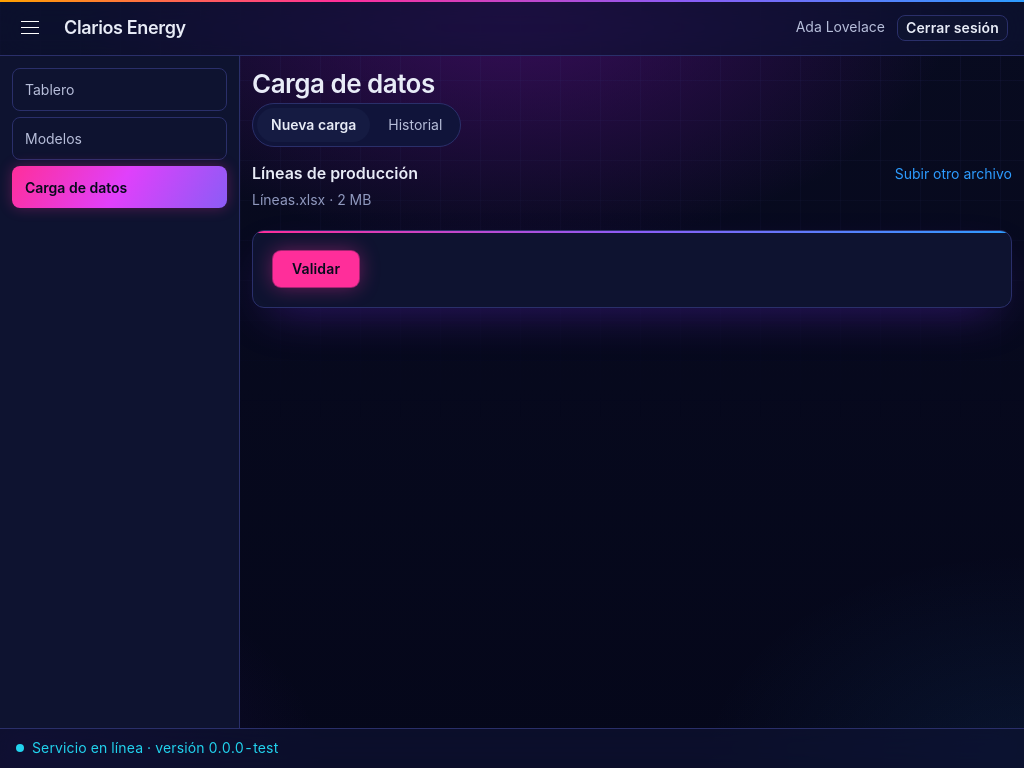
it: a file not validated yet › says so when another validation of it is running
Click the button "Validar" at {"x": 316, "y": 269}, box [273, 251, 359, 287]
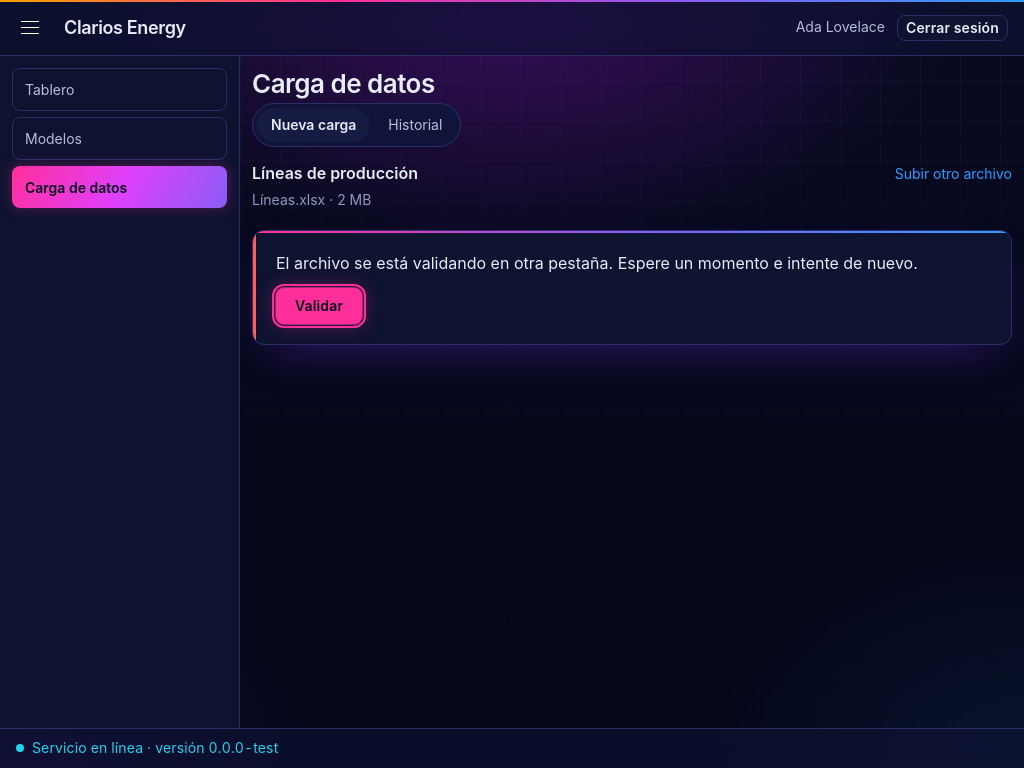
expect the 1st message shows "El archivo se está validando en otra pestaña. Espere un momento e intente de nuevo.": met, box [276, 253, 918, 273]
